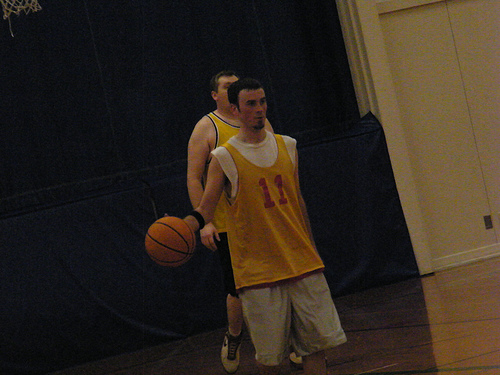basketball: (144, 216, 195, 266)
